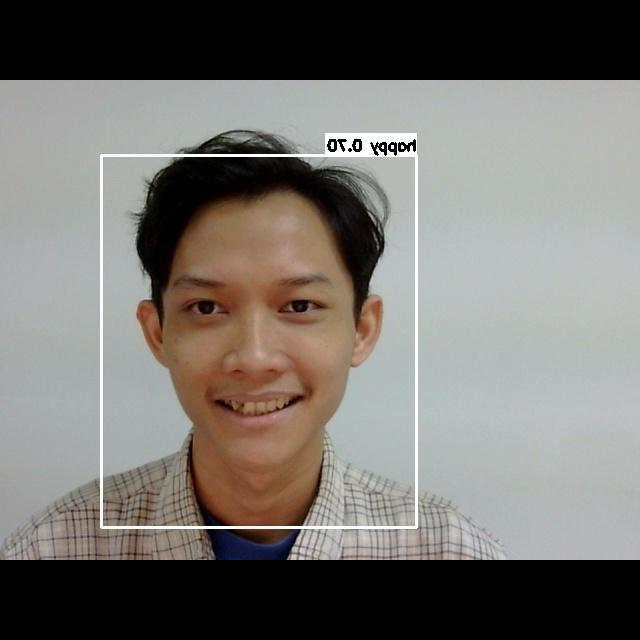Happy: (144, 252, 365, 451)
